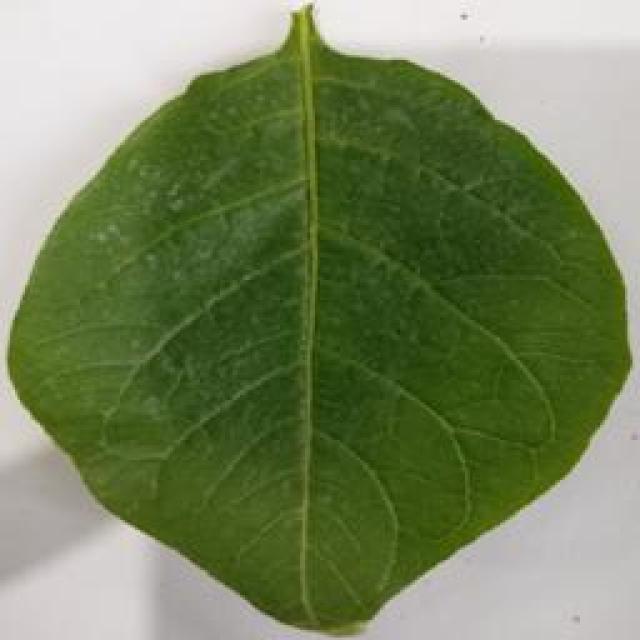Potato_Healthy: (6, 5, 635, 630)
